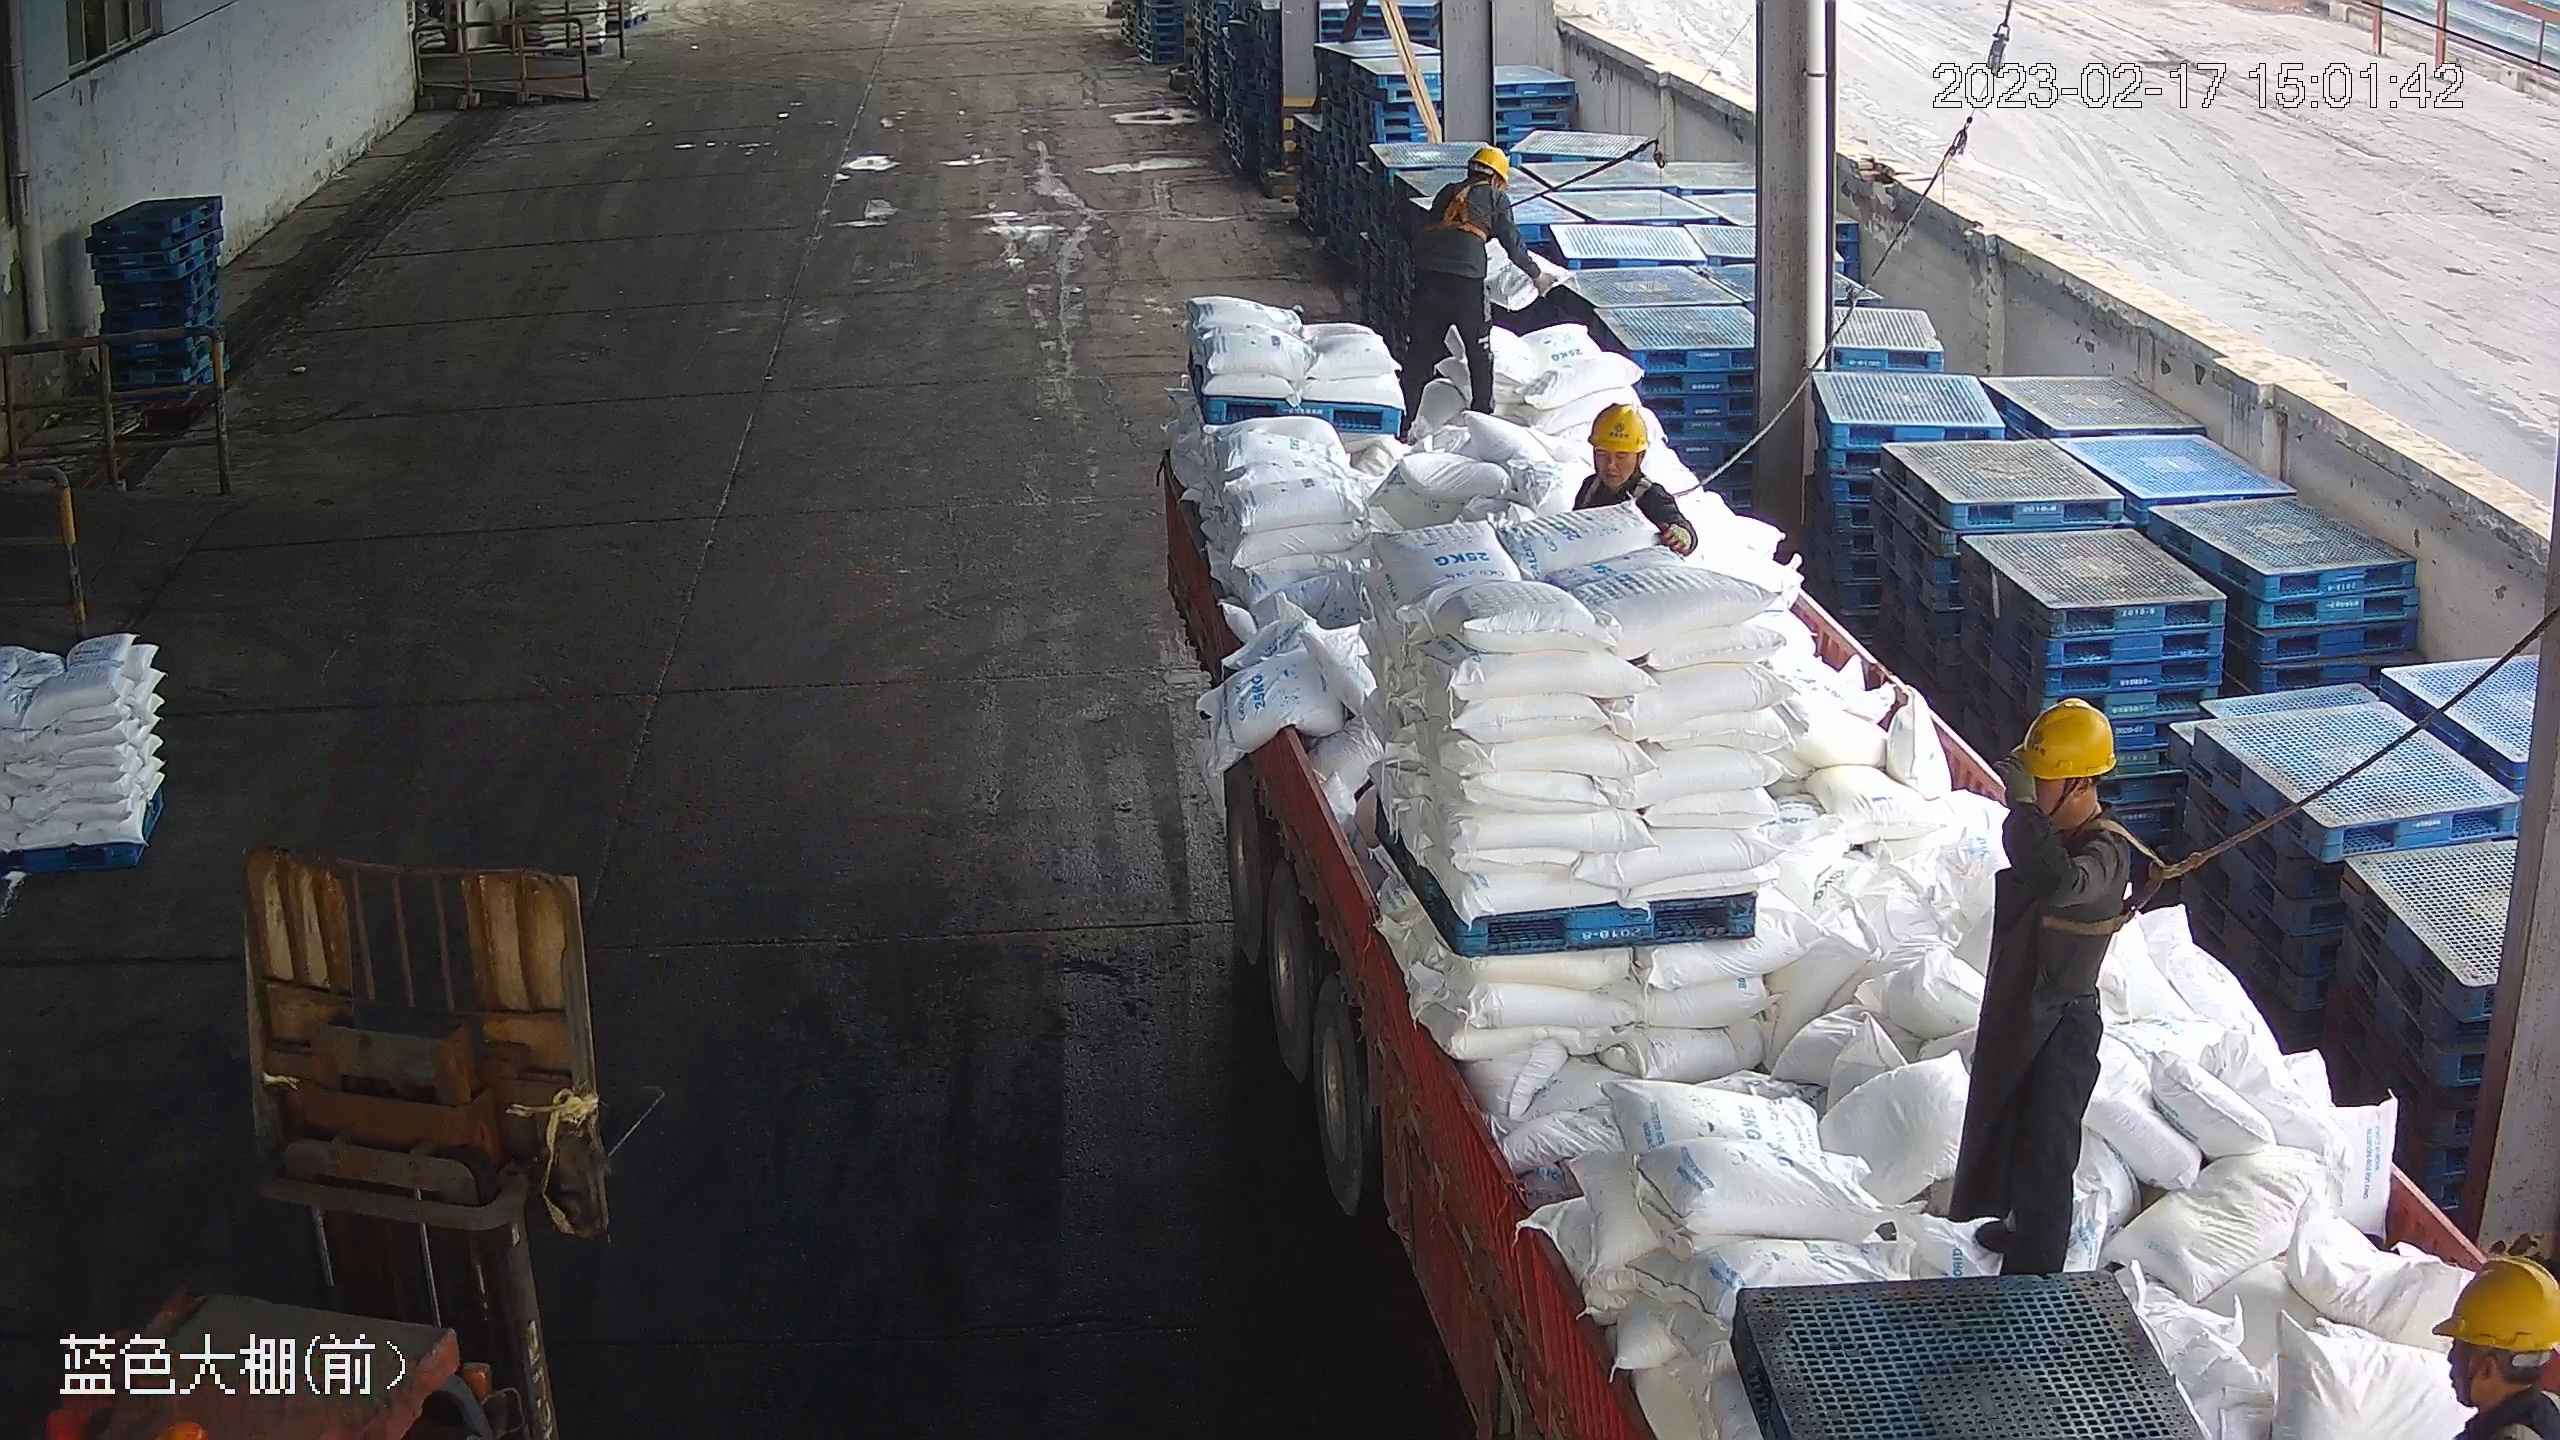belt: (2025, 809, 2177, 944), (1430, 176, 1499, 242), (1589, 464, 1662, 514)
head: (2003, 693, 2150, 893), (1570, 402, 1673, 509), (1428, 143, 1514, 223)
helmet: (2435, 1245, 2560, 1354), (2007, 693, 2120, 782), (1585, 401, 1651, 454), (1467, 143, 1512, 185)
people: (1931, 694, 2148, 1277), (1382, 141, 1546, 434)
truck: (1155, 446, 2559, 1438)
